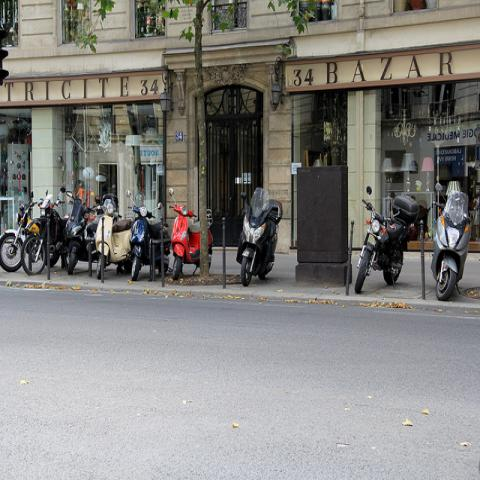motorcycle: (352, 186, 419, 296), (430, 182, 476, 301), (121, 186, 169, 288), (236, 188, 284, 286), (21, 186, 71, 276), (168, 186, 213, 280), (66, 190, 104, 278), (0, 190, 38, 272), (96, 199, 134, 280)
